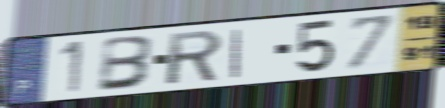1: (58, 39, 84, 95)
5: (296, 18, 336, 74)
7: (348, 12, 399, 72)
B: (95, 34, 158, 94)
I: (229, 28, 245, 80)
R: (166, 28, 225, 87)
